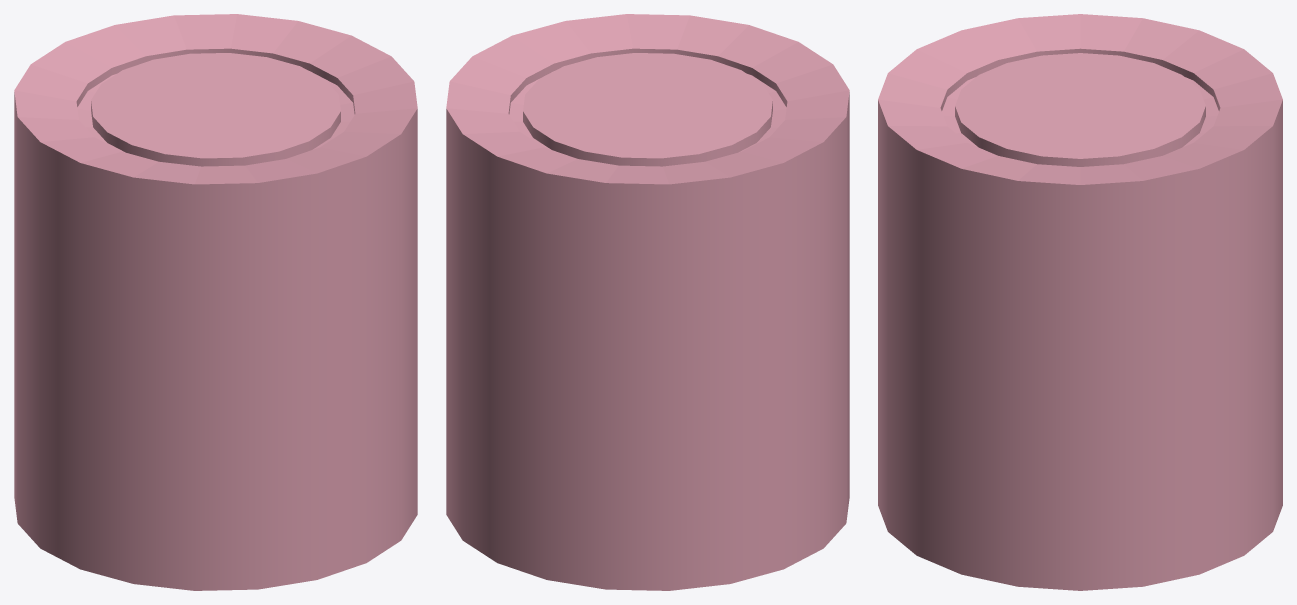
File: PokerChipStack1.fbx
3 views of the same model, side by side, from view 1: azimuth 30°, elevation 25°; view 2: azimuth 150°, elevation 25°; view 3: azimuth 270°, elevation 25° (orthographic).
Visible parts, largest first — view 1: PokerChipStack1; view 2: PokerChipStack1; view 3: PokerChipStack1.
Part boxes in pixels (x1,y1,x2,y2): PokerChipStack1: (14, 14, 417, 590); PokerChipStack1: (446, 14, 849, 590); PokerChipStack1: (878, 14, 1282, 590).
Bounding box in the file's own units: 5.71 × 6.31 × 5.71.
